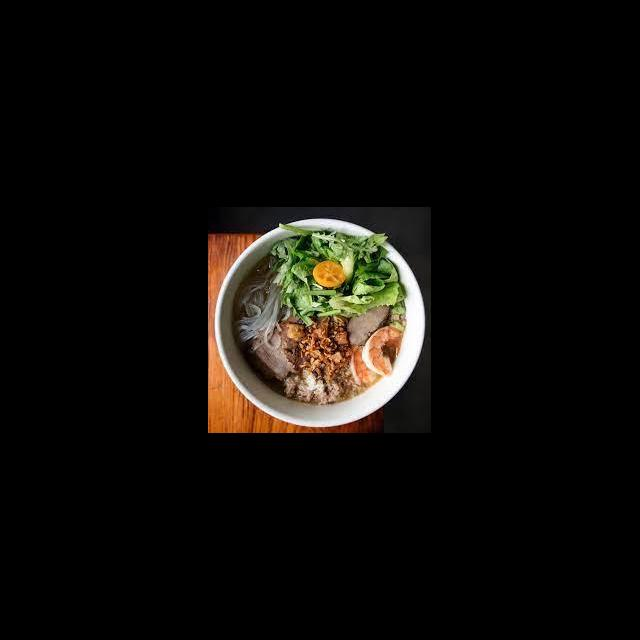banh hu tieu: (234, 260, 296, 350)
gan: (344, 295, 394, 349)
hu tieu: (209, 223, 428, 433)
thit bam: (280, 346, 354, 407)
thit heo: (242, 312, 306, 383)
tom: (359, 327, 402, 387)
